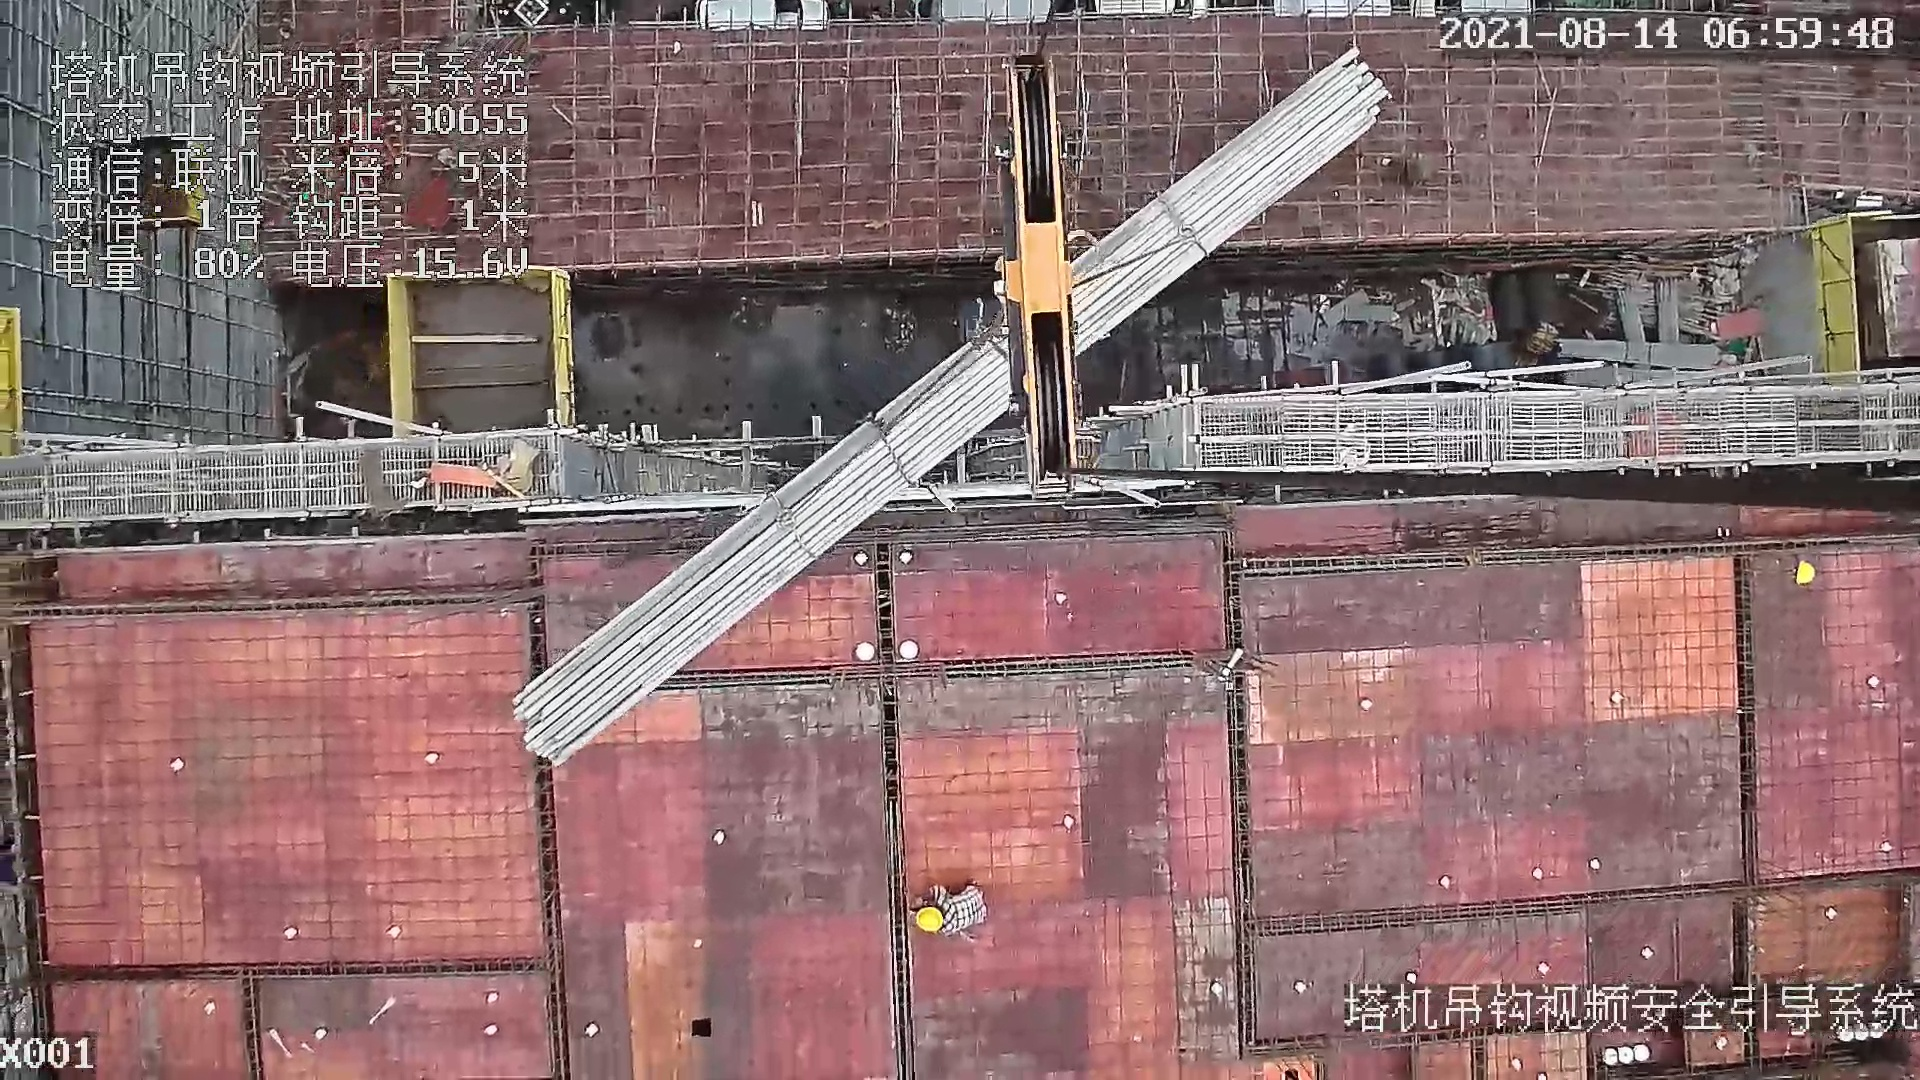board: (1861, 235, 1920, 362)
helmet: (916, 907, 943, 933), (1794, 558, 1815, 586)
hook: (964, 49, 1103, 501)
person: (918, 883, 991, 939)
rebar: (513, 56, 1381, 761), (1557, 338, 1718, 370), (1616, 286, 1648, 341), (1655, 277, 1680, 341)
